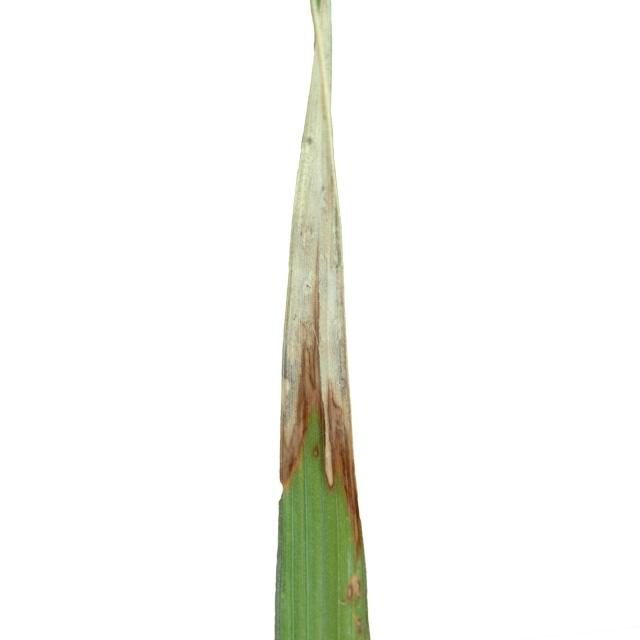Leaf scald: (214, 0, 403, 638)
